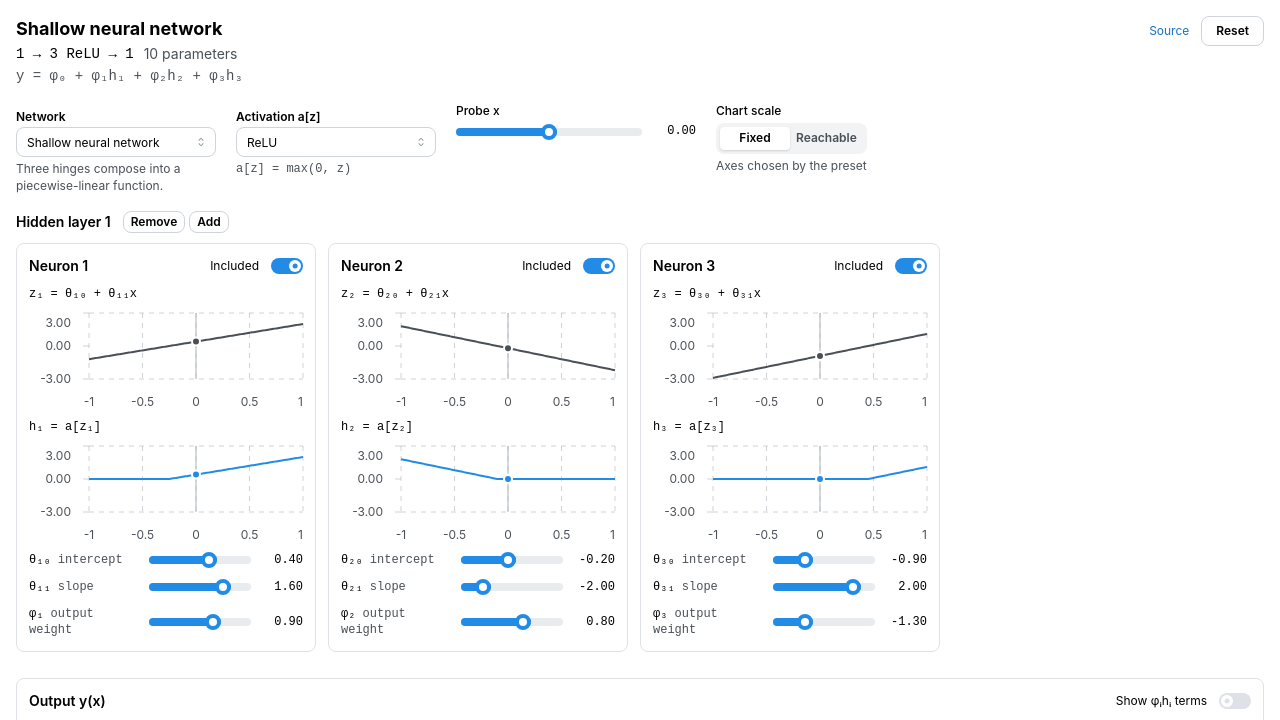
it: removing a neuron takes the last card and its parameters away
Click the button with aria-label "Remove a neuron from hidden layer 1".
click(154, 222)  # box [123, 211, 185, 233]
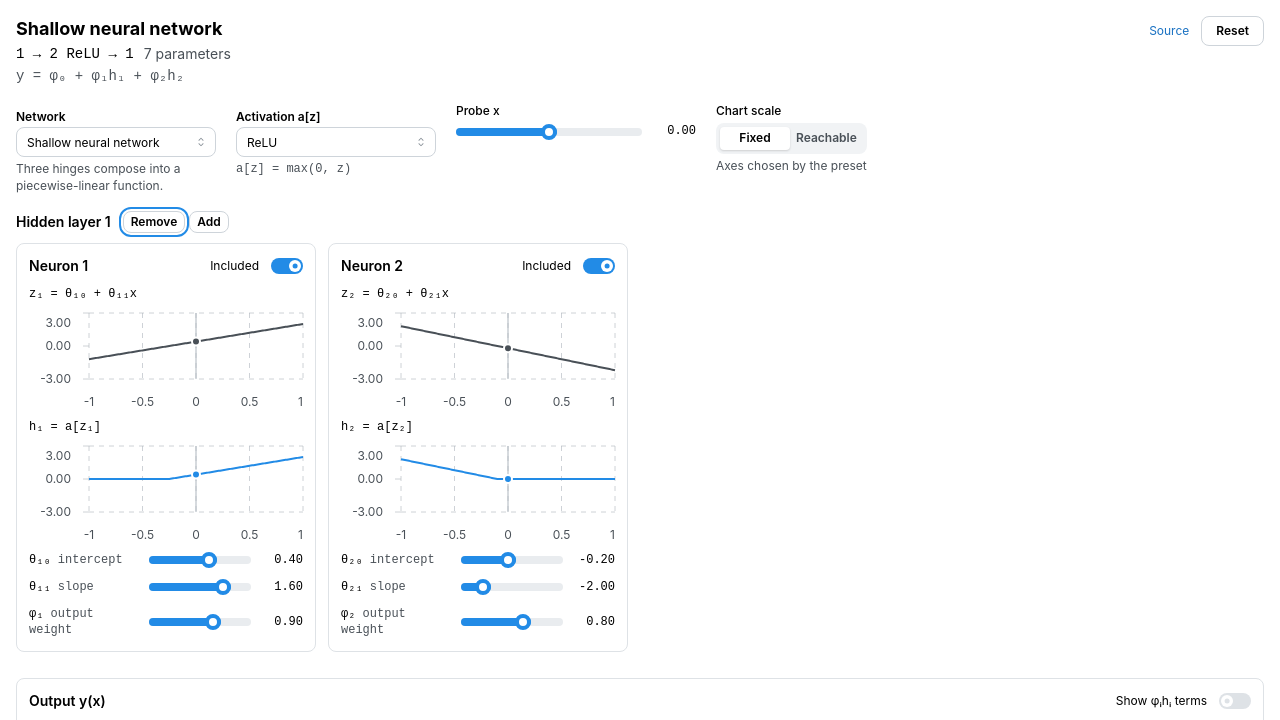
Expected: the text "7 parameters" is shown, [144, 44, 231, 64]
